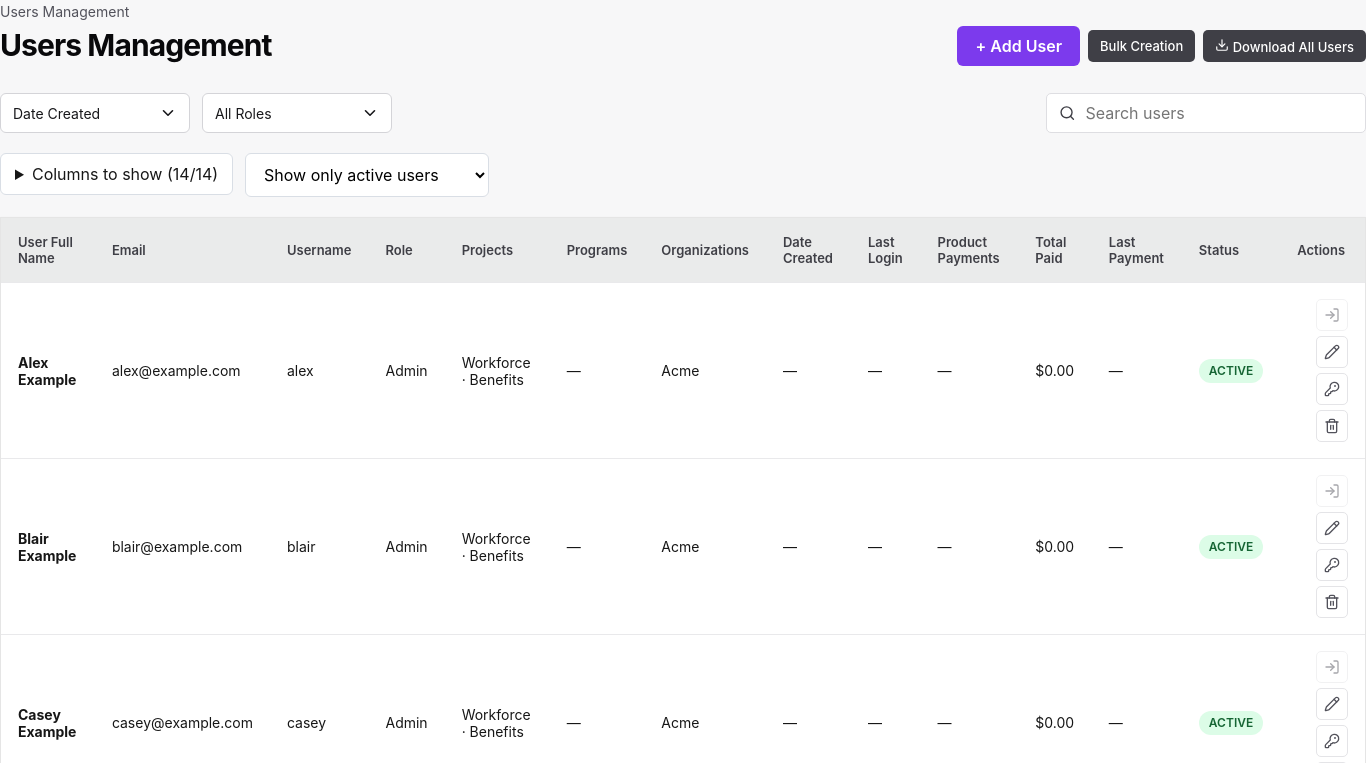
Test: matches any pipe-separated user search term
Type " ALEX | blair | | " into the search field at [1218, 113], box top-left (1084, 102), bottom-right (1353, 124)
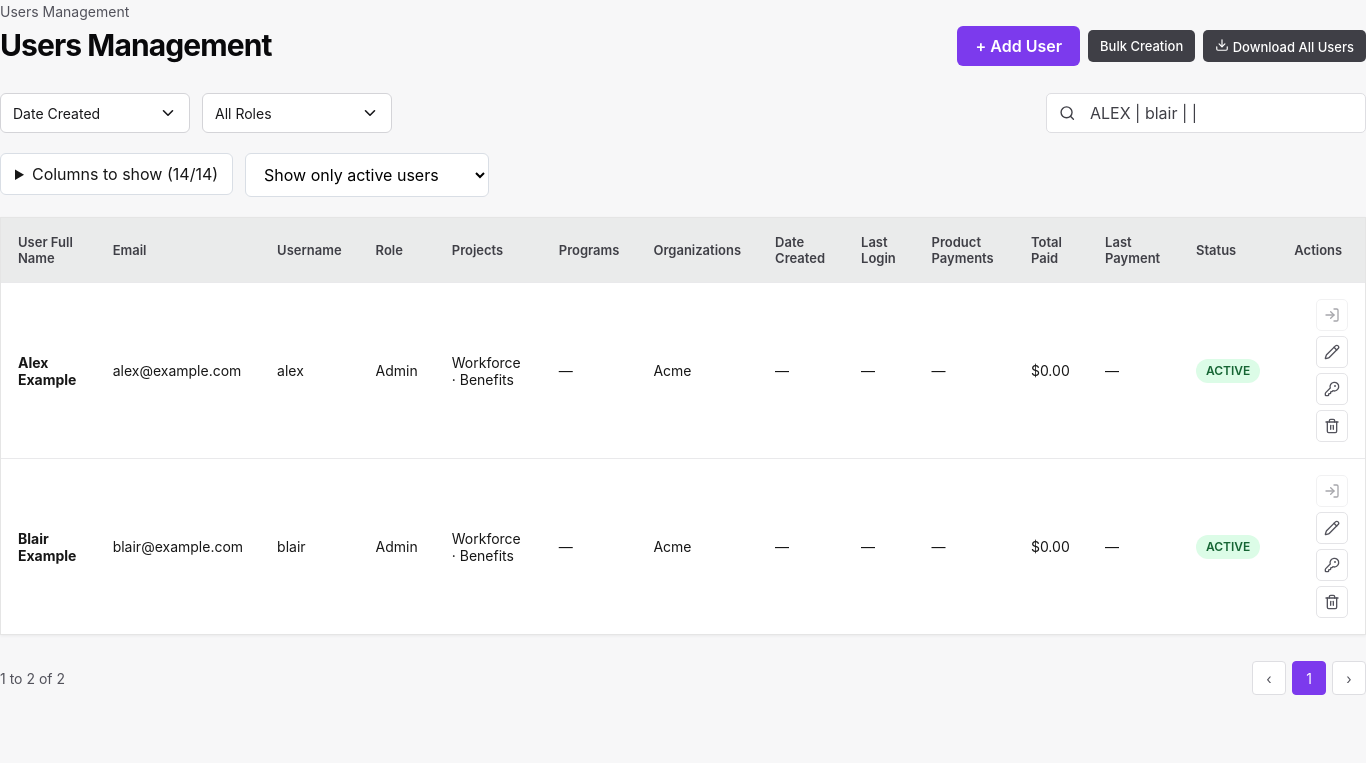
Expected: the text "Alex Example" is shown, top-left (18, 354), bottom-right (76, 388)
Expected: the text "Casey Example" is gone
